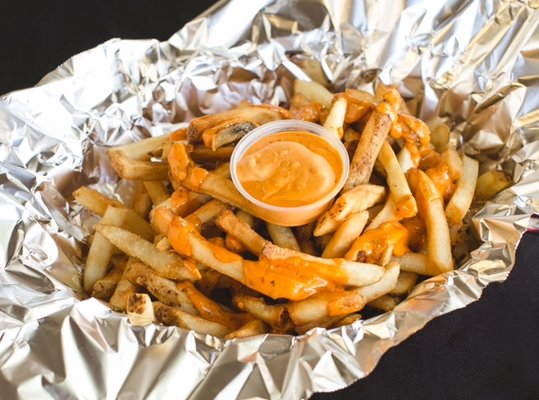curry: (0, 0, 536, 394)
